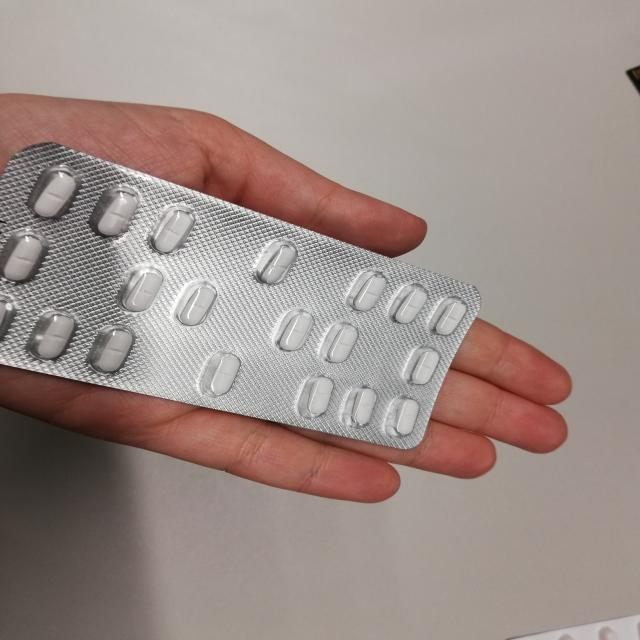Pill: (28, 157, 85, 224), (90, 179, 140, 246), (26, 302, 78, 366), (115, 257, 167, 314), (174, 275, 226, 329), (198, 344, 248, 400), (91, 319, 137, 378), (148, 203, 200, 253), (8, 225, 48, 289), (387, 272, 428, 334), (255, 239, 302, 289), (274, 304, 319, 356), (348, 261, 389, 315), (322, 318, 367, 367), (402, 342, 446, 390), (343, 385, 385, 433), (433, 292, 472, 343), (381, 397, 428, 439), (296, 375, 335, 424)
